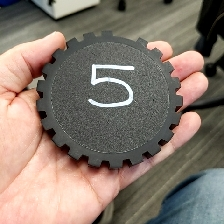gear: (35, 29, 185, 170)
missing: (99, 29, 149, 50)
